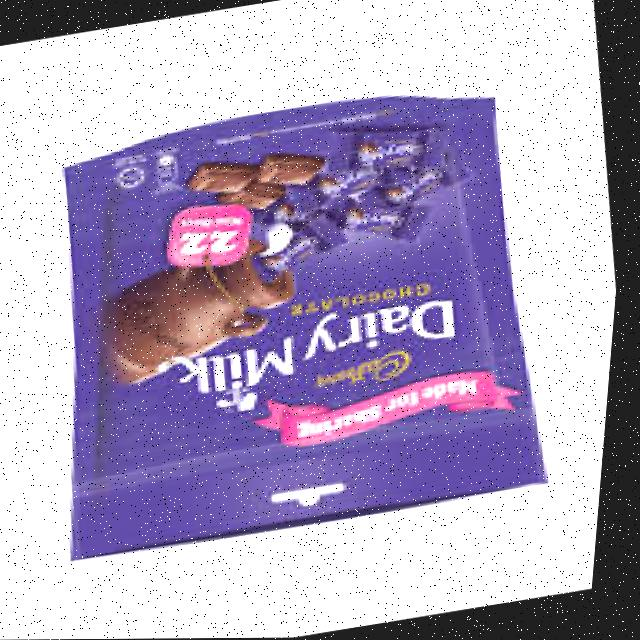cadbury: (18, 71, 578, 567)
